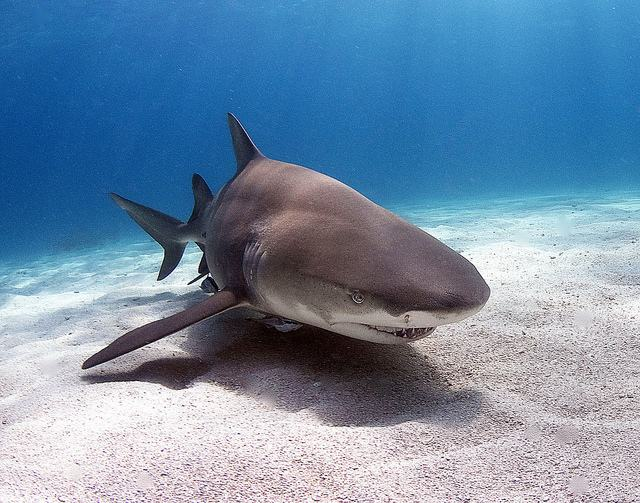shark: (80, 113, 492, 371)
